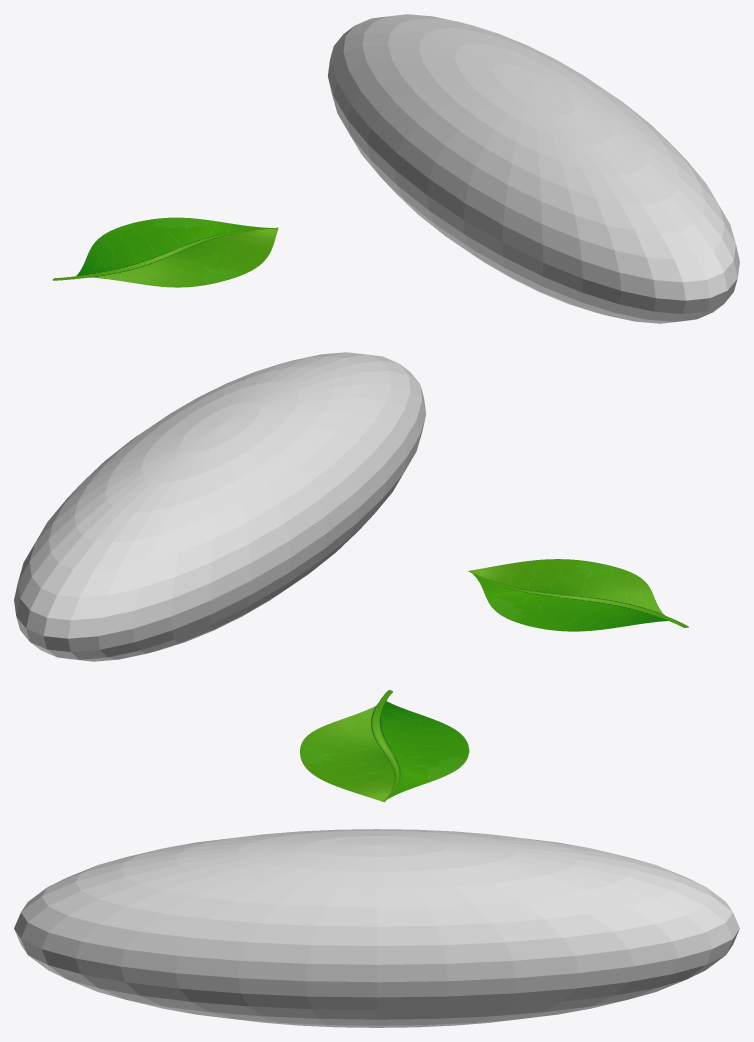
File: vinesV2withLeaves.fbx
3 views of the same model, one above another, from view 1: azimuth 30°, elevation 25°; view 2: azimuth 150°, elevation 25°; view 3: azimuth 270°, elevation 25° (orthographic). The views are drawn at different scales.
Visible parts, largest first — view 1: Normal, Plane; view 2: Normal, Plane; view 3: Normal, Plane.
Boxes of the visible parts, x1,y1,x2,y2 form: Normal: [328, 14, 739, 323]; Plane: [53, 217, 278, 287]; Normal: [14, 352, 425, 661]; Plane: [468, 559, 688, 631]; Normal: [14, 829, 739, 1027]; Plane: [300, 690, 469, 802].
Bounding box in the file's own units: 749 × 200 × 786.
